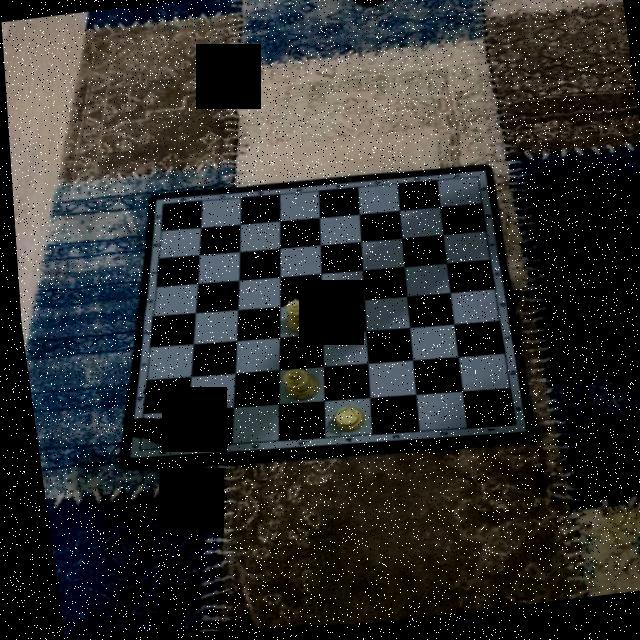chess-table-corners: (462, 172, 486, 190), (498, 419, 520, 438), (122, 443, 144, 458), (151, 198, 169, 213)
